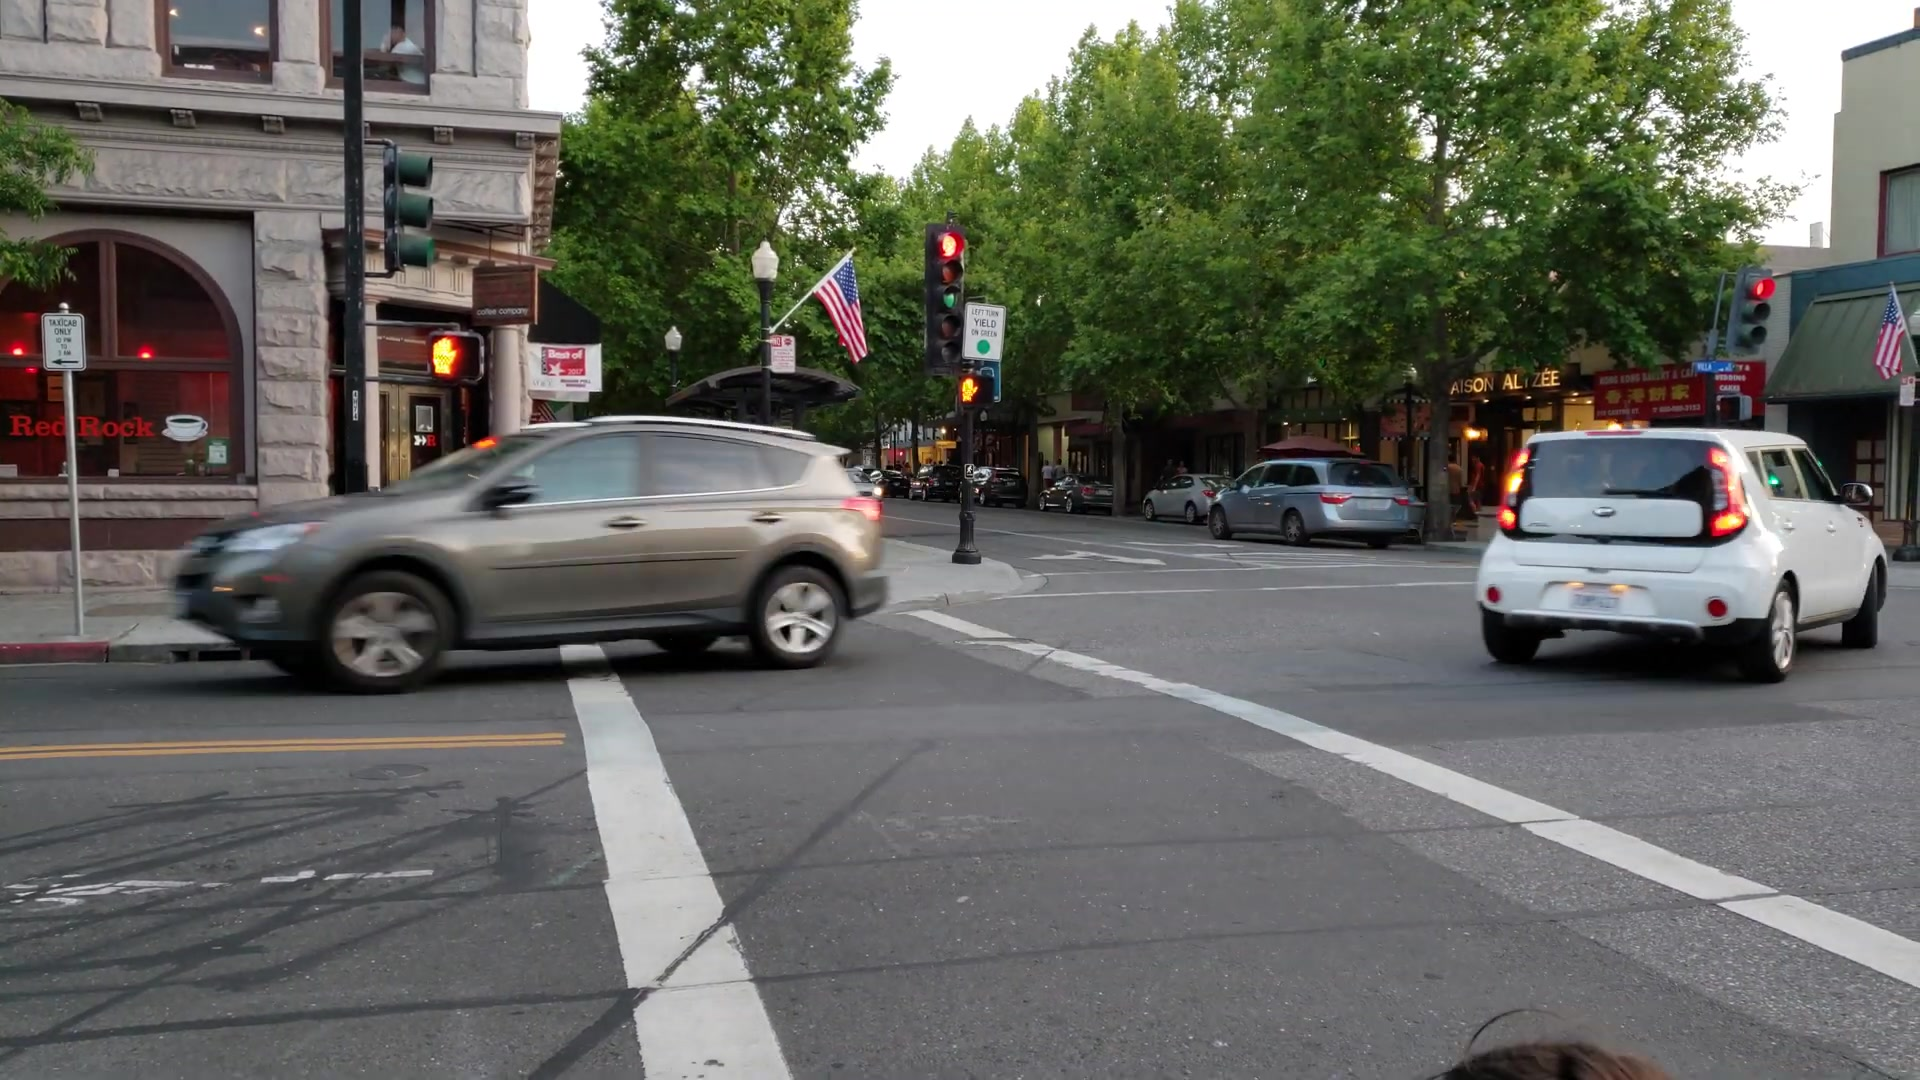vehicle: (178, 414, 891, 695), (1474, 427, 1892, 684), (1212, 458, 1412, 549)
